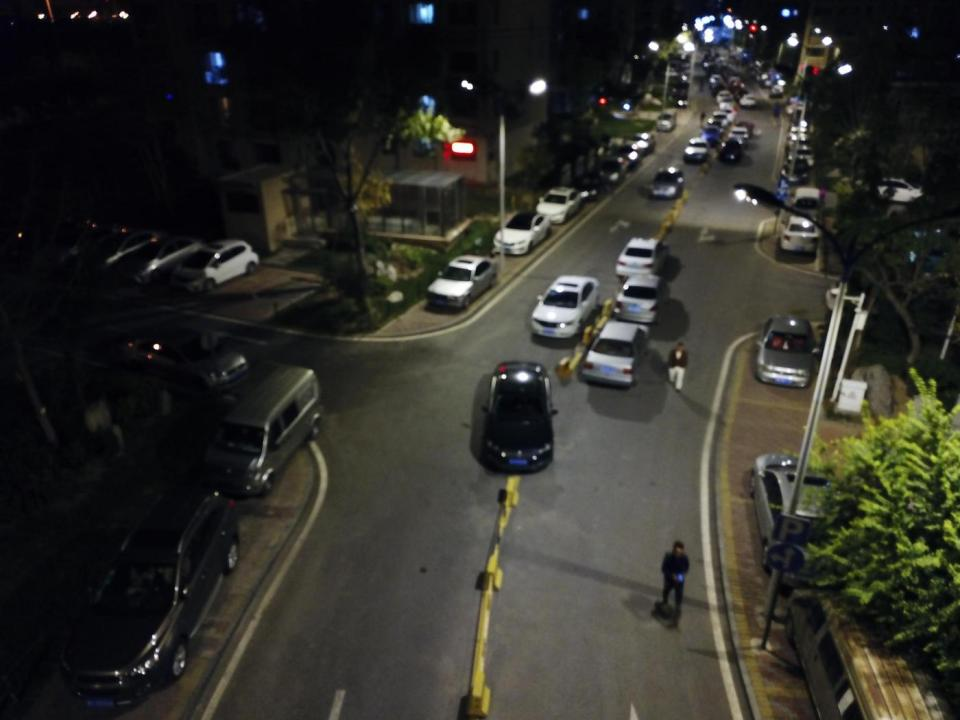car: (57, 487, 245, 711), (751, 451, 865, 584), (116, 309, 247, 393), (477, 360, 558, 471), (123, 227, 206, 289), (172, 236, 259, 293), (754, 315, 820, 390), (86, 218, 168, 278), (580, 317, 648, 389), (530, 274, 601, 342), (421, 252, 498, 312), (612, 269, 670, 326), (610, 231, 670, 281), (856, 164, 923, 208), (495, 207, 551, 255), (781, 203, 822, 256), (534, 183, 582, 224), (645, 163, 685, 201), (784, 186, 825, 222), (595, 155, 629, 184), (683, 135, 712, 165), (575, 173, 608, 199), (624, 132, 658, 154), (719, 137, 745, 163), (789, 140, 816, 164), (727, 120, 754, 142), (616, 143, 642, 164), (786, 159, 809, 182), (700, 124, 724, 144), (788, 119, 808, 142), (708, 111, 728, 130), (718, 104, 736, 124), (740, 93, 758, 109), (710, 80, 728, 96), (716, 90, 735, 104), (770, 82, 787, 96), (730, 80, 748, 93), (719, 97, 736, 110), (734, 87, 750, 100), (728, 74, 744, 85), (709, 73, 722, 86)
van: (782, 583, 955, 720), (199, 361, 322, 498), (654, 110, 677, 133)
